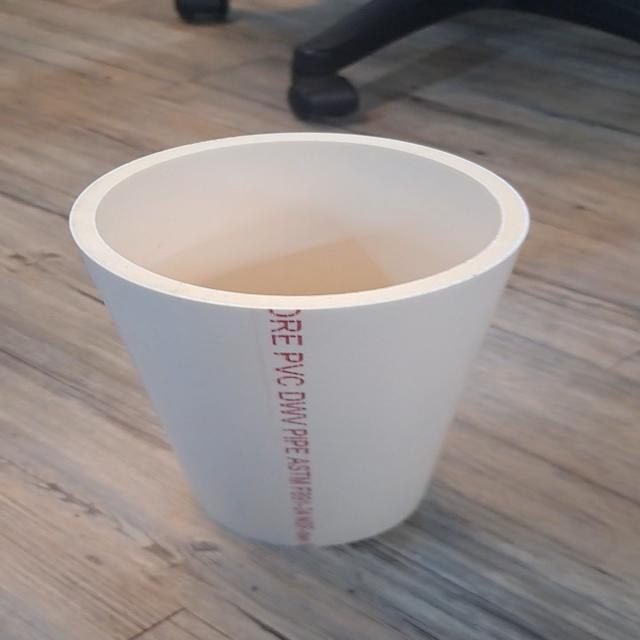CORAL: (57, 119, 561, 553)
